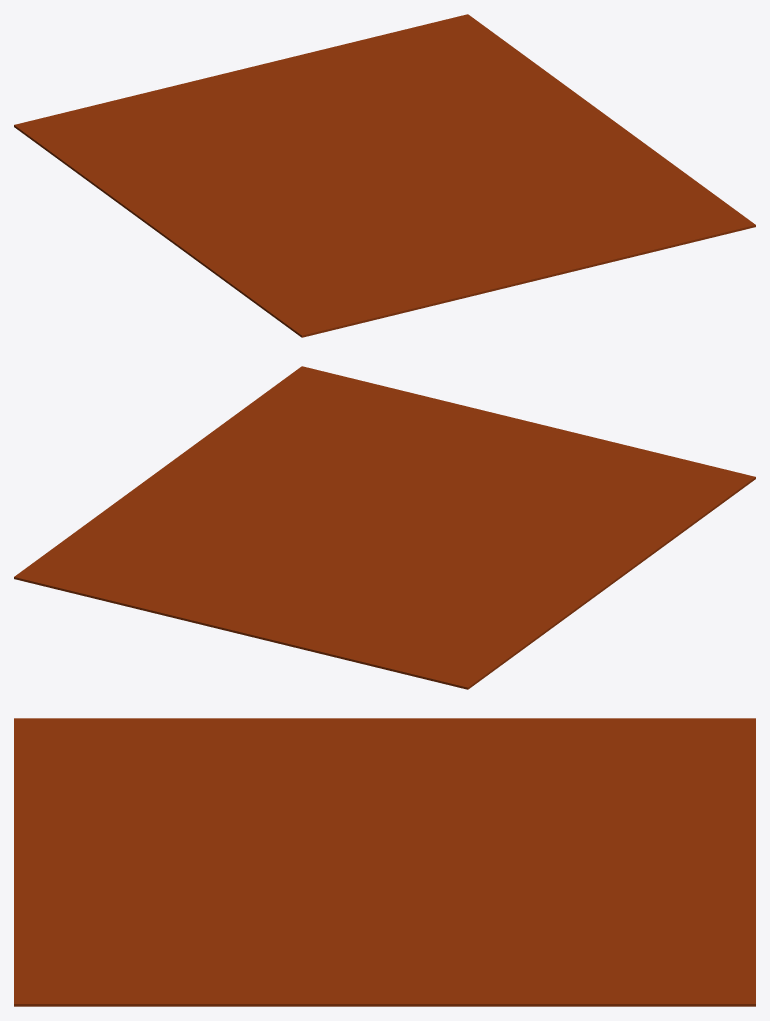
File: floor.glb
3 views of the same model, one above another, from view 1: azimuth 30°, elevation 25°; view 2: azimuth 150°, elevation 25°; view 3: azimuth 270°, elevation 25° (orthographic). The views are drawn at different scales.
Parts seen in each view (by area): view 1: Cube; view 2: Cube; view 3: Cube.
Part boxes in pixels (<box>): Cube: <box>14,14,755,337</box>; Cube: <box>14,366,755,689</box>; Cube: <box>14,718,755,1006</box>.
Size of the model in its own units: 121 by 0.5377 by 133.
